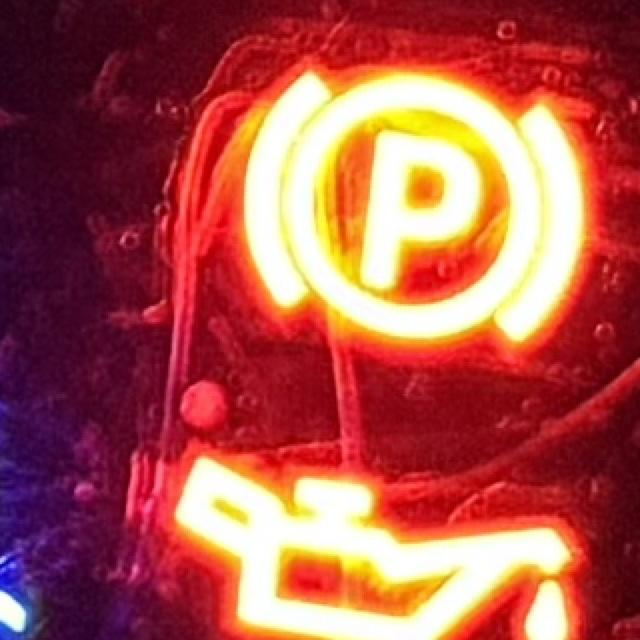Low Oil Pressure Issue: (170, 451, 575, 640)
Parking Break On: (239, 62, 592, 347)
